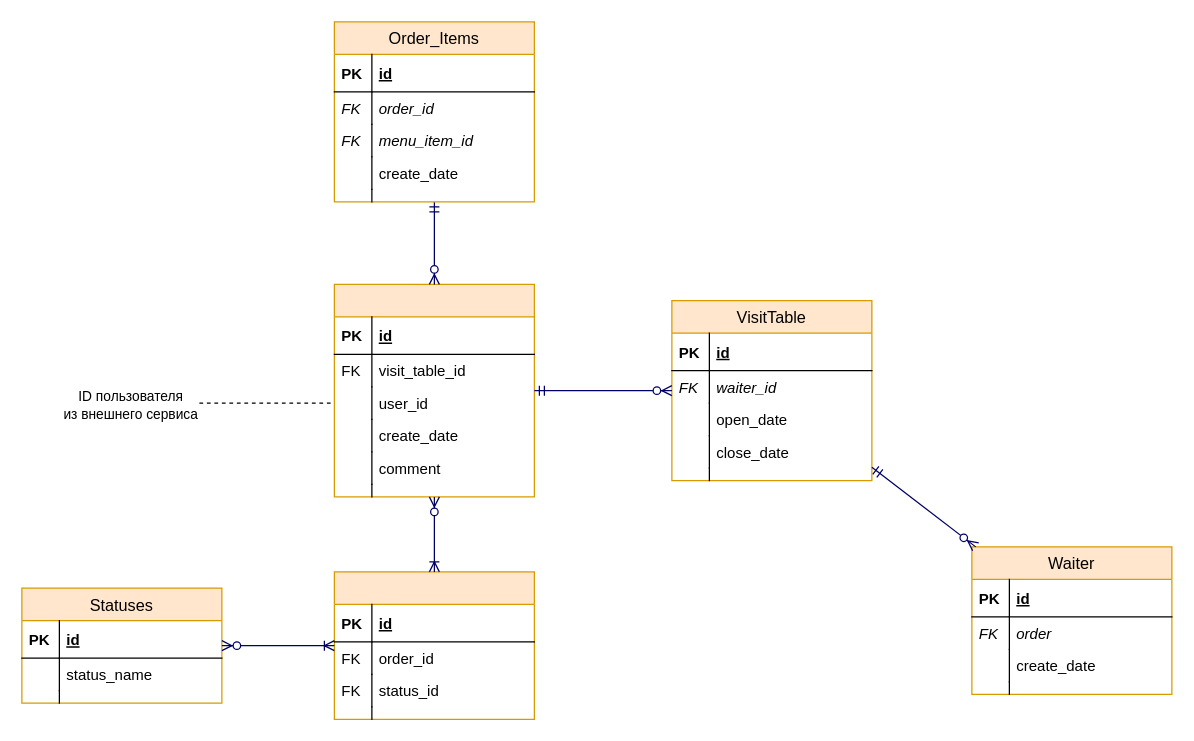
Some shapes in this 1194 by 741 pixel diagram are drawn without their labels. The box of each missing label's shape, as (x1, y1, x2, y2) in pixels:
Order_Status: (333, 571, 534, 719)
Orders: (333, 283, 534, 497)
